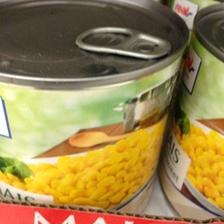Mais: (0, 0, 184, 210), (158, 8, 222, 218)
